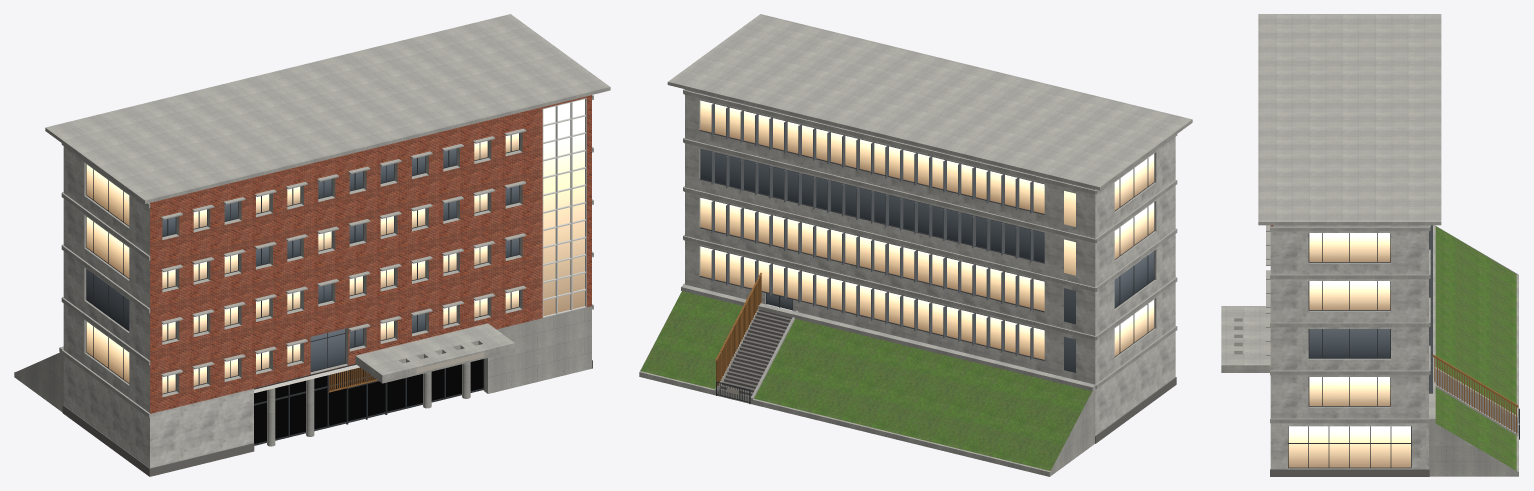
Rendered from campus_boya.glb.
3 renders of one model, left to right at view 1: azimuth 30°, elevation 25°; view 2: azimuth 150°, elevation 25°; view 3: azimuth 270°, elevation 25°, orthographic. The views are drawn at different scales.
Parts seen in each view (by area): view 1: wz_vc_by, by_glass, by_skyref; view 2: wz_vc_by, by_glass; view 3: wz_vc_by, by_glass.
Boxes of the visible parts, <box> form: wz_vc_by: <box>14,14,610,476</box>; by_glass: <box>86,99,584,393</box>; by_skyref: <box>254,359,482,443</box>; wz_vc_by: <box>639,14,1192,476</box>; by_glass: <box>700,100,1154,372</box>; wz_vc_by: <box>1221,14,1519,476</box>; by_glass: <box>1288,233,1410,467</box>.
Bounding box in the file's own units: 35.8 × 20.85 × 21.73.
Materials: 5 (1 with a texture image).
